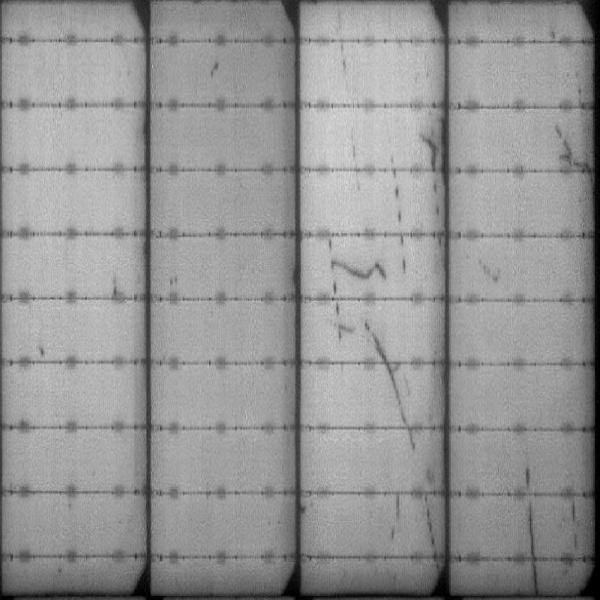scratch: (418, 134, 444, 244), (390, 158, 413, 274), (546, 123, 585, 168), (382, 366, 409, 424), (527, 468, 538, 594), (425, 494, 442, 563), (325, 317, 363, 346), (337, 258, 392, 278), (363, 323, 391, 359), (325, 242, 338, 296), (392, 493, 403, 540), (570, 501, 581, 547), (405, 432, 420, 460)
